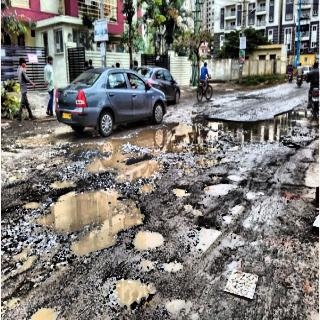pothole: (43, 167, 189, 278), (196, 108, 314, 156), (130, 127, 240, 161), (208, 167, 258, 208), (186, 217, 224, 266), (48, 140, 114, 168), (132, 222, 167, 259), (19, 188, 44, 216), (282, 134, 302, 154)
